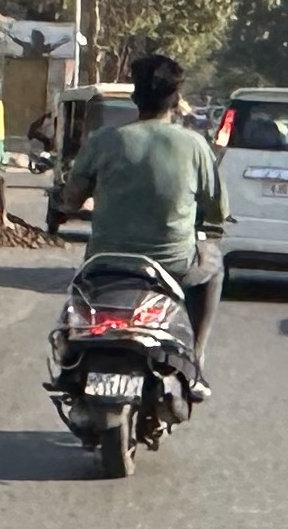BikeWithRider: (33, 46, 242, 483)
NoHelmet: (120, 47, 192, 129)
